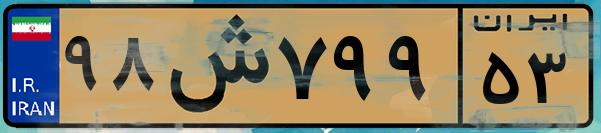3: (525, 38, 570, 115)
5: (475, 38, 525, 113)
7: (270, 28, 330, 110)
8: (110, 28, 158, 98)
9: (385, 28, 445, 110), (330, 28, 385, 110), (57, 26, 110, 100)
ش: (158, 12, 270, 120)
